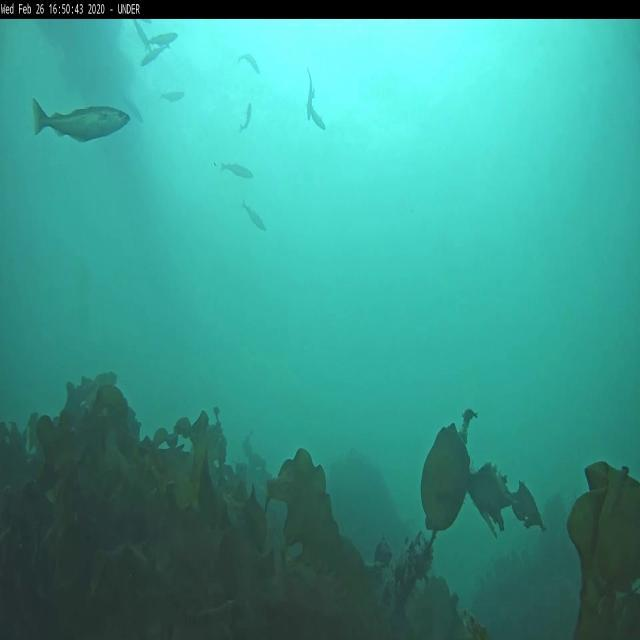fish: (34, 99, 133, 147), (241, 200, 266, 232), (141, 44, 172, 64), (218, 162, 254, 178), (238, 54, 260, 80), (304, 66, 314, 123), (242, 100, 252, 136), (163, 89, 187, 104), (311, 110, 327, 132), (152, 34, 180, 46), (132, 22, 144, 41)
